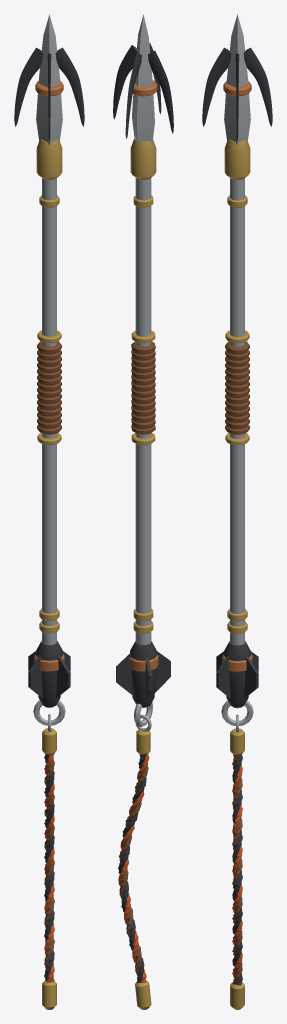
File: tool_electricharpoon.fbx
3 views of the same model, side by side, from view 1: azimuth 90°, elevation 25°; view 2: azimuth 150°, elevation 25°; view 3: azimuth 270°, elevation 25° (orthographic).
Visible parts, largest first — view 1: Tool_ElectricHarpoon_Harpoon, Tool_ElectricHarpoon_Wire; view 2: Tool_ElectricHarpoon_Harpoon, Tool_ElectricHarpoon_Wire; view 3: Tool_ElectricHarpoon_Harpoon, Tool_ElectricHarpoon_Wire.
Boxes of the visible parts, x1=… form: Tool_ElectricHarpoon_Harpoon: x1=14, y1=14, x2=84, y2=725; Tool_ElectricHarpoon_Wire: x1=42, y1=714, x2=56, y2=1009; Tool_ElectricHarpoon_Harpoon: x1=113, y1=14, x2=173, y2=727; Tool_ElectricHarpoon_Wire: x1=118, y1=714, x2=151, y2=1009; Tool_ElectricHarpoon_Harpoon: x1=202, y1=14, x2=272, y2=725; Tool_ElectricHarpoon_Wire: x1=230, y1=714, x2=244, y2=1009.
Size of the model in its own units: 10.23 by 160 by 10.23.
